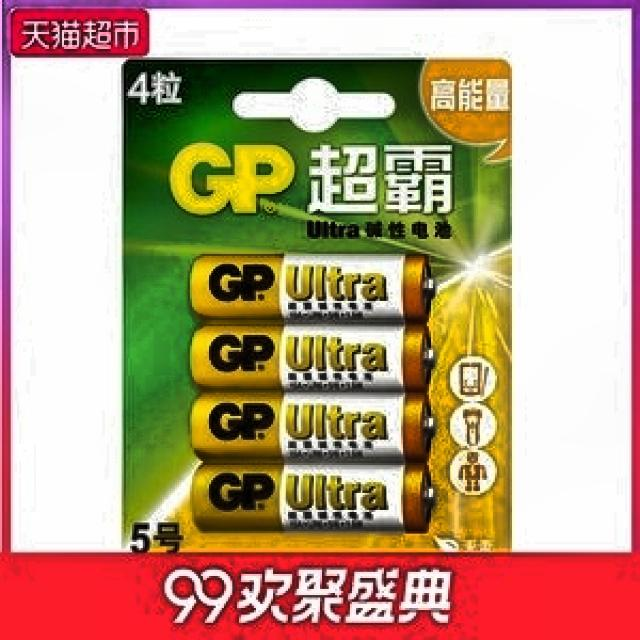Non-Valuable Waste - Batteries: (192, 462, 431, 531), (192, 392, 425, 462), (191, 255, 432, 322), (192, 324, 428, 391)
